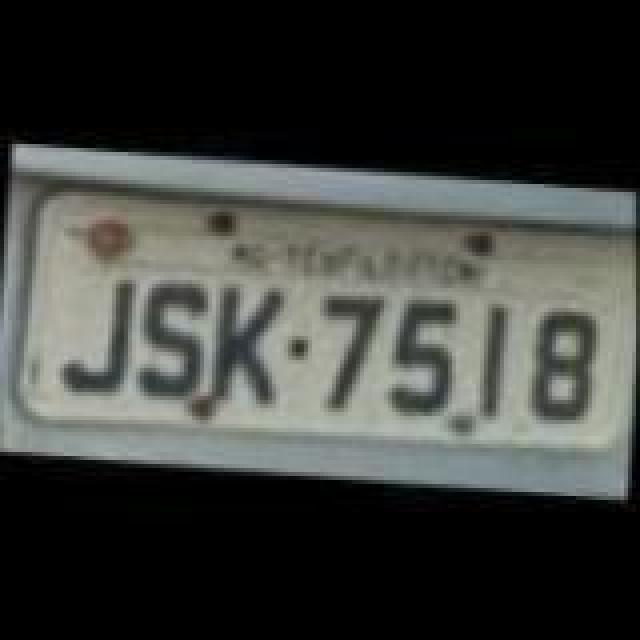1: (468, 296, 520, 420)
5: (384, 290, 468, 414)
7: (304, 290, 380, 410)
8: (522, 306, 602, 430)
J: (52, 266, 144, 398)
K: (200, 280, 292, 416)
S: (132, 280, 216, 400)
